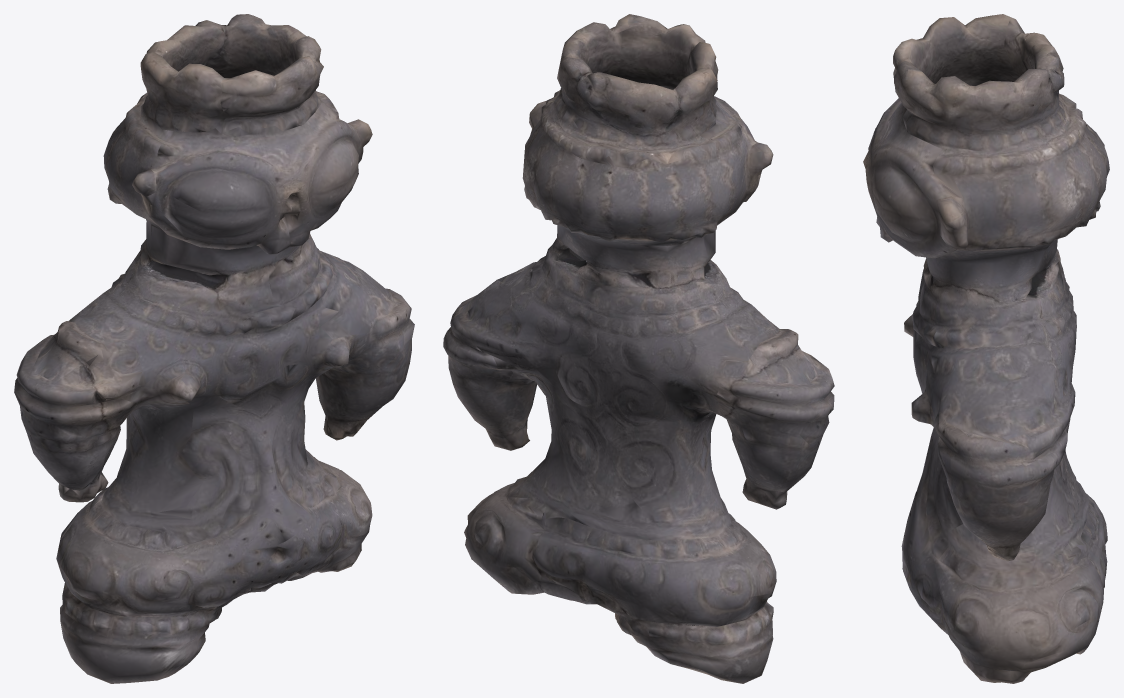
Rendered from mdl_klemes_dogu.glb.
The picture shows the model from 3 angles, left to right: view 1: azimuth 30°, elevation 25°; view 2: azimuth 150°, elevation 25°; view 3: azimuth 270°, elevation 25°; orthographic projection. The views are drawn at different scales.
Parts seen in each view (by area): view 1: Object_3; view 2: Object_3; view 3: Object_3.
Part boxes in pixels (x1,y1,x2,y2): Object_3: (14, 14, 414, 683); Object_3: (443, 14, 834, 683); Object_3: (863, 14, 1109, 683).
Size of the model in its own units: 24.24 by 36.71 by 12.92.
1 material, 1 textured.
